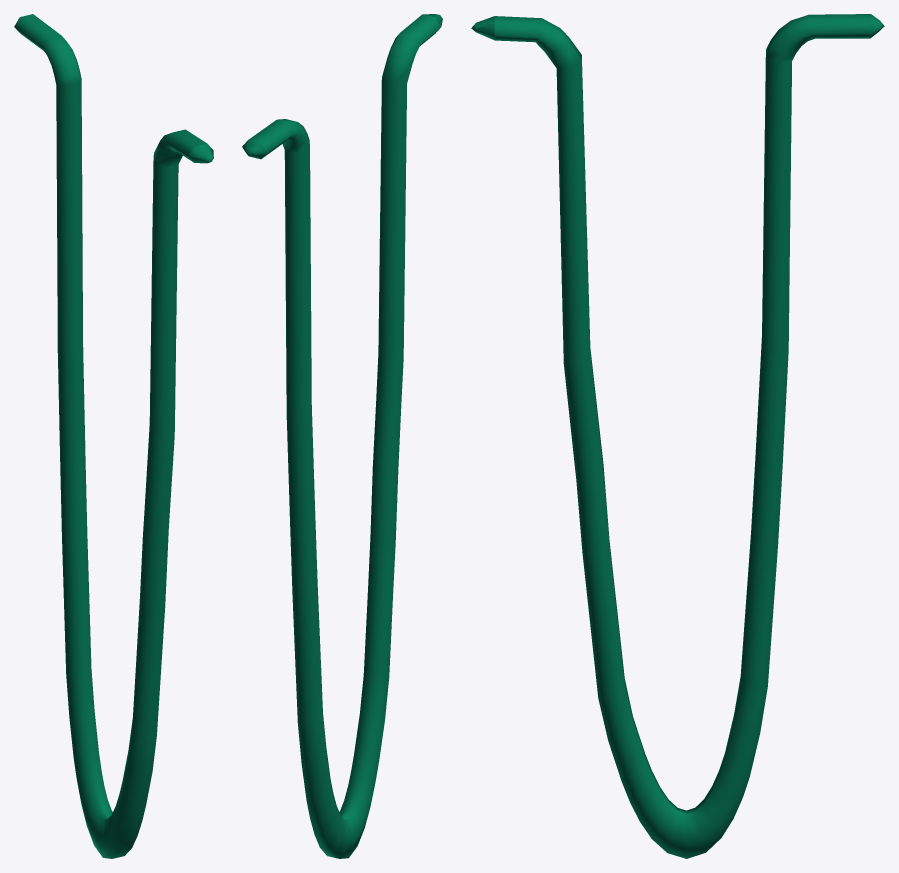
File: MidVine_01.fbx
The picture shows the model from 3 angles, left to right: view 1: azimuth 30°, elevation 25°; view 2: azimuth 150°, elevation 25°; view 3: azimuth 270°, elevation 25°; orthographic projection. The views are drawn at different scales.
Parts seen in each view (by area): view 1: midUVine_01; view 2: midUVine_01; view 3: midUVine_01.
Boxes of the visible parts, x1,y1,x2,y2 form: midUVine_01: (14,14,213,858); midUVine_01: (242,14,442,858); midUVine_01: (471,14,884,858).
Size of the model in its own units: 0.34 by 9.07 by 4.05.
